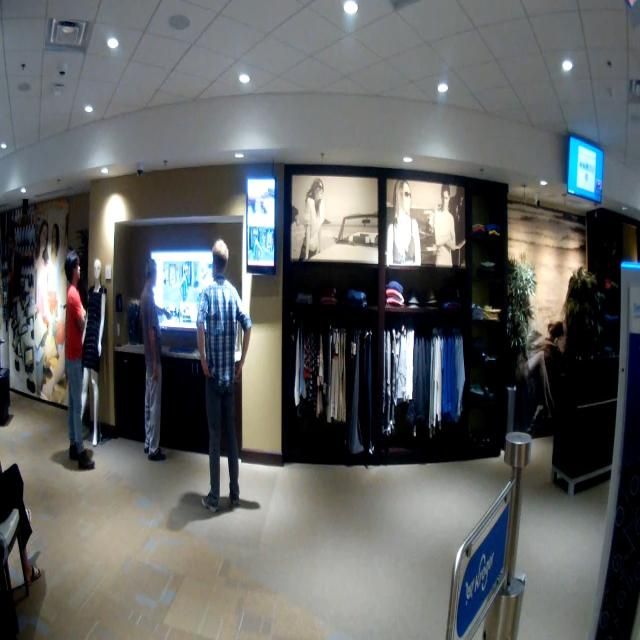normal: (186, 232, 270, 543), (51, 247, 107, 497), (132, 243, 178, 487)
